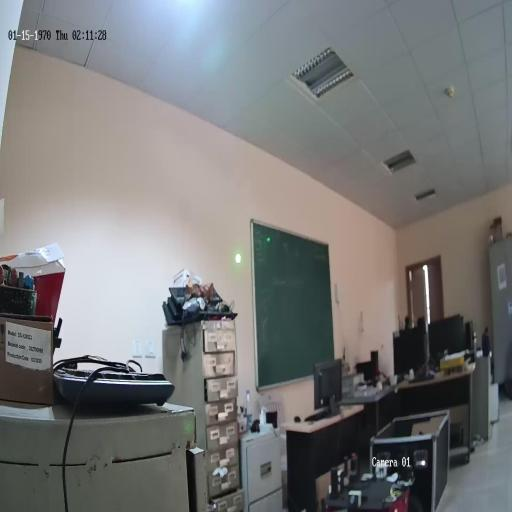laser: (234, 251, 242, 267)
